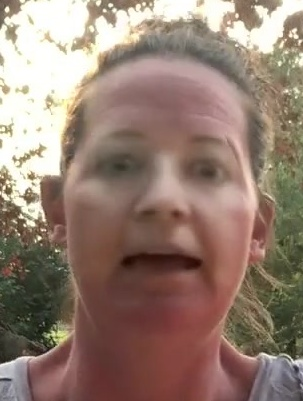eb_f: (83, 124, 247, 194)
